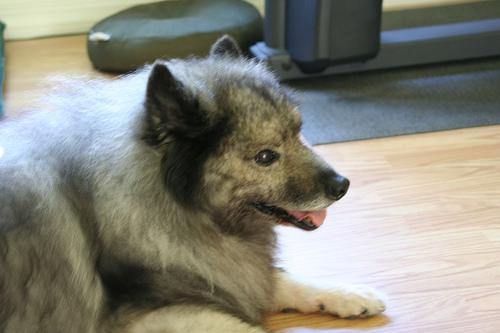dog-keeshond: (144, 33, 349, 230)
